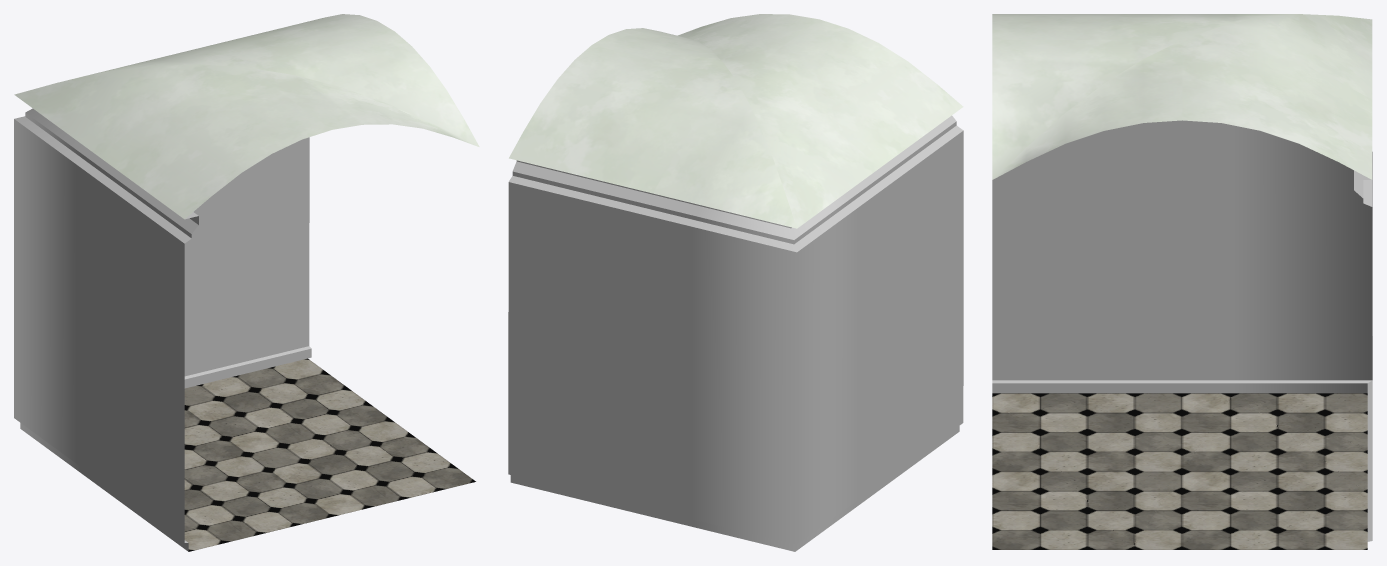
The model's file is corner.FBX.
3 renders of one model, left to right at view 1: azimuth 30°, elevation 25°; view 2: azimuth 150°, elevation 25°; view 3: azimuth 270°, elevation 25°, orthographic. The views are drawn at different scales.
Visible parts, largest first — view 1: Corner; view 2: Corner; view 3: Corner.
Boxes of the visible parts, left/top/right/bottom form: Corner: left=14, top=14, right=479, bottom=551; Corner: left=508, top=14, right=963, bottom=551; Corner: left=992, top=14, right=1372, bottom=549.
Size of the model in its own units: 160 by 200 by 160.
